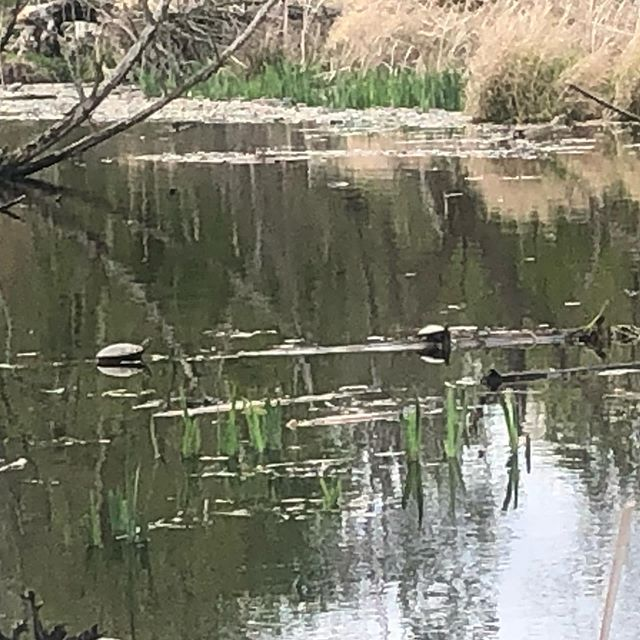animal: (90, 323, 154, 374), (409, 312, 452, 347)
river: (3, 100, 640, 640)
vegetation: (23, 1, 635, 107)
